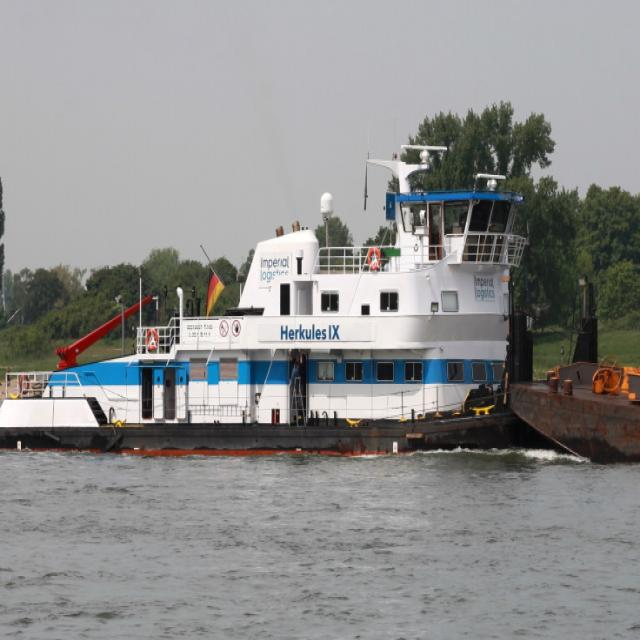tugboat: (1, 142, 604, 474)
